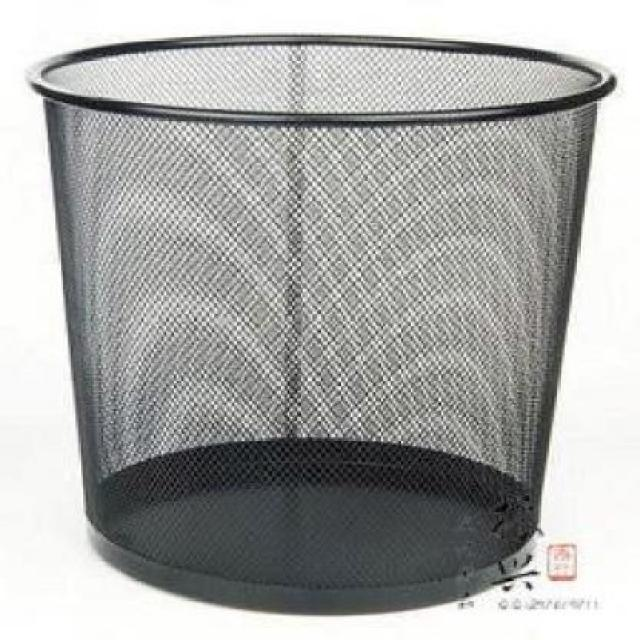dustbin: (16, 26, 626, 623)
